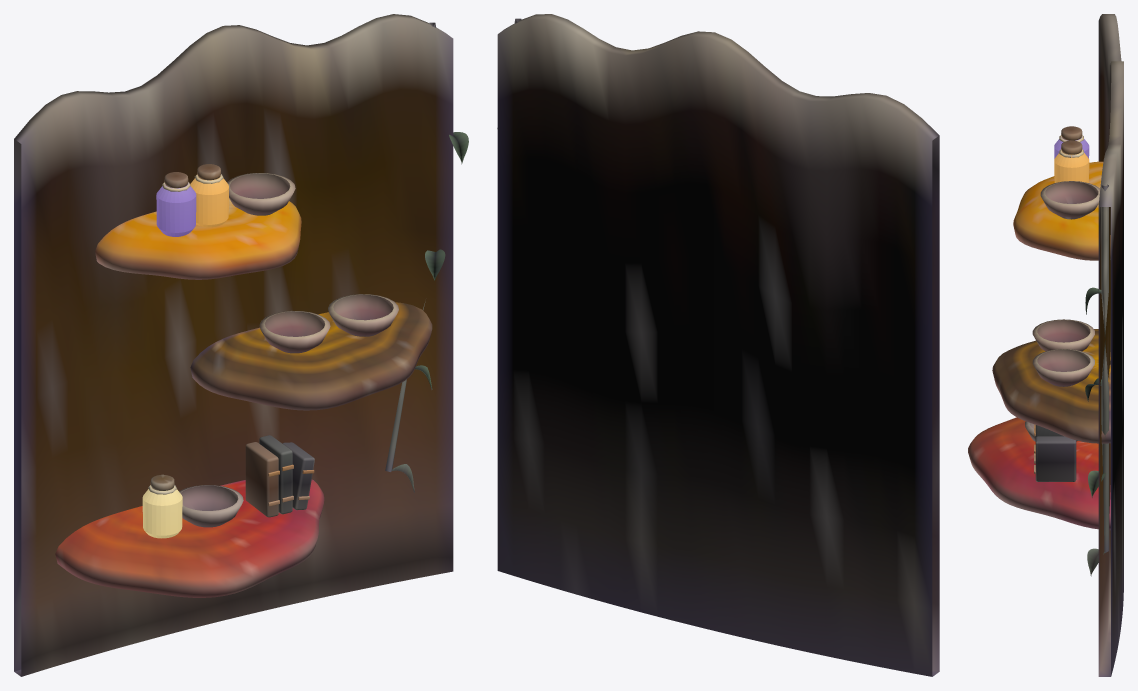
File: mantar_raf.glb
The picture shows the model from 3 angles, left to right: view 1: azimuth 30°, elevation 25°; view 2: azimuth 150°, elevation 25°; view 3: azimuth 270°, elevation 25°; orthographic projection. The views are drawn at different scales.
Visible parts, largest first — view 1: mantar_raf_LOD0; view 2: mantar_raf_LOD0; view 3: mantar_raf_LOD0.
Boxes of the visible parts, <box> form: mantar_raf_LOD0: <box>14,14,468,676</box>; mantar_raf_LOD0: <box>497,14,939,676</box>; mantar_raf_LOD0: <box>968,14,1123,676</box>.
Size of what is drawn, in the model's own units: 1.43 by 1.82 by 0.4962.
